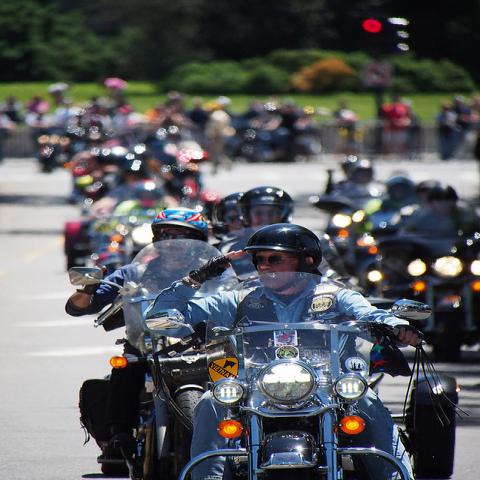motorcycle: (145, 272, 430, 480), (68, 240, 216, 472), (360, 202, 479, 364), (323, 182, 454, 290), (39, 110, 116, 172), (226, 122, 323, 162), (103, 222, 156, 274), (329, 111, 377, 150), (63, 218, 92, 278), (308, 194, 366, 216)
